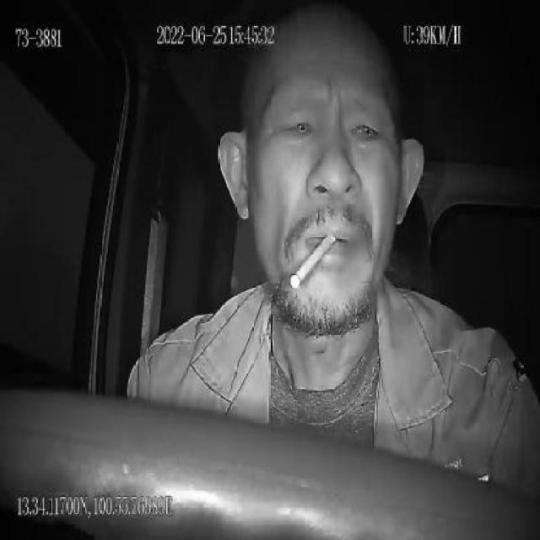smoking: (289, 235, 334, 290)
